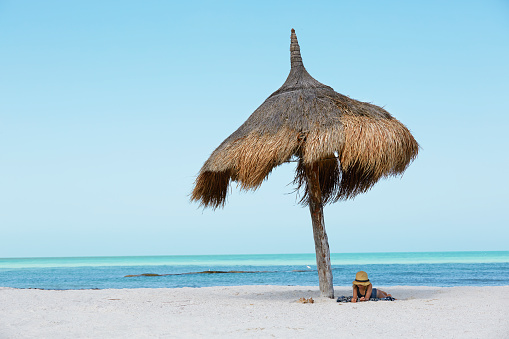deitado: (347, 269, 388, 304)
